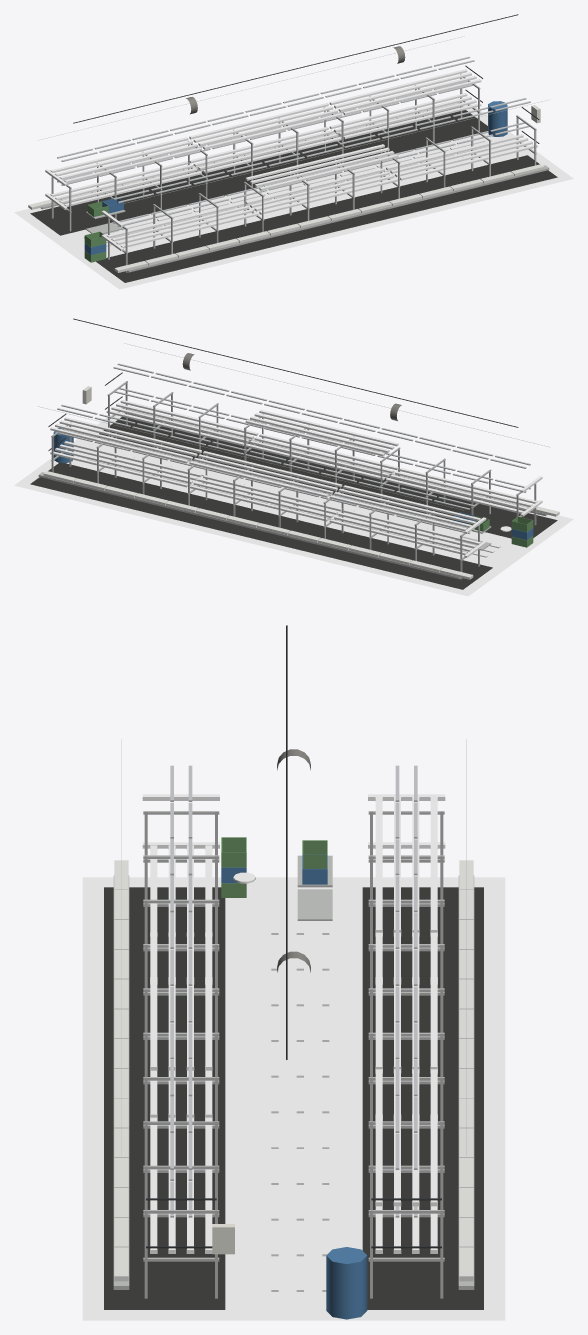
The model's file is HY_Fitout_A_LOD1.glb.
3 renders of one model, top to bottom at view 1: azimuth 30°, elevation 25°; view 2: azimuth 150°, elevation 25°; view 3: azimuth 270°, elevation 25°, orthographic. The views are drawn at different scales.
Parts seen in each view (by area): view 1: HY_Fitout_A_LOD1; view 2: HY_Fitout_A_LOD1; view 3: HY_Fitout_A_LOD1.
Part boxes in pixels (x1,y1,x2,y2): HY_Fitout_A_LOD1: (14, 14, 573, 289); HY_Fitout_A_LOD1: (14, 318, 573, 596); HY_Fitout_A_LOD1: (82, 625, 505, 1320).
Size of the model in its own units: 14.9 by 4.03 by 6.
